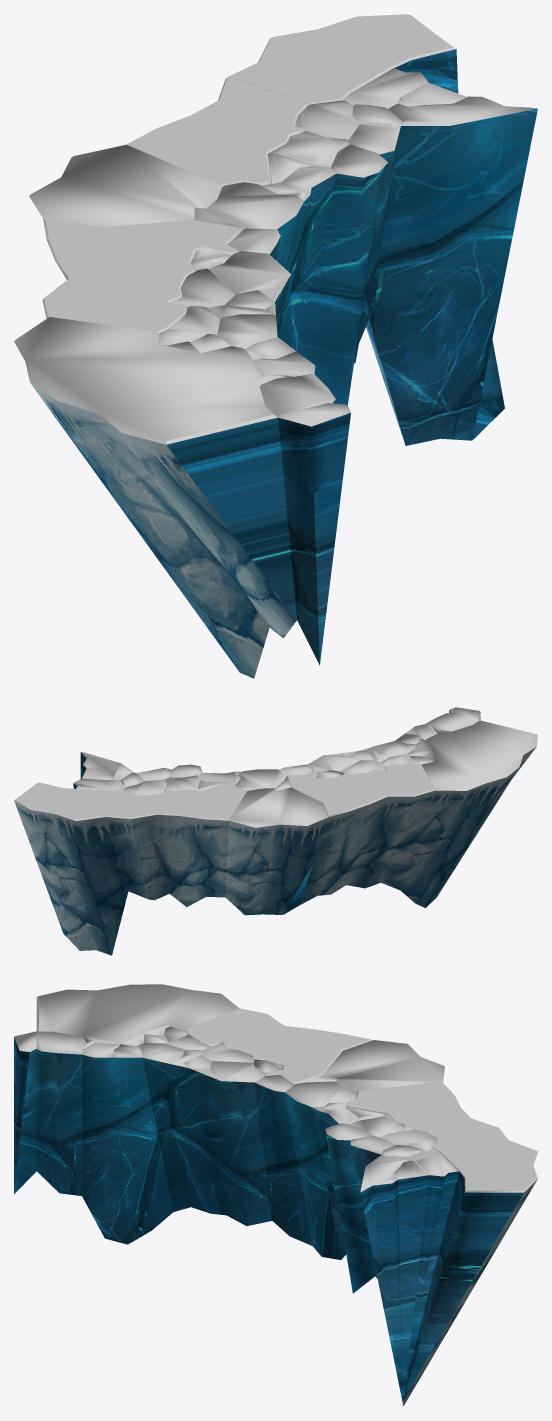
The model's file is IceEdge3.fbx.
3 renders of one model, top to bottom at view 1: azimuth 30°, elevation 25°; view 2: azimuth 150°, elevation 25°; view 3: azimuth 270°, elevation 25°, orthographic. The views are drawn at different scales.
Parts seen in each view (by area): view 1: icecrownraid_arthas_precipice_phase1_quad3; view 2: icecrownraid_arthas_precipice_phase1_quad3; view 3: icecrownraid_arthas_precipice_phase1_quad3.
Boxes of the visible parts, left/top/right/bottom form: icecrownraid_arthas_precipice_phase1_quad3: left=14, top=14, right=537, bottom=678; icecrownraid_arthas_precipice_phase1_quad3: left=14, top=707, right=537, bottom=955; icecrownraid_arthas_precipice_phase1_quad3: left=14, top=984, right=537, bottom=1406.
Bounding box in the file's own units: 7201 × 3654 × 7682.
